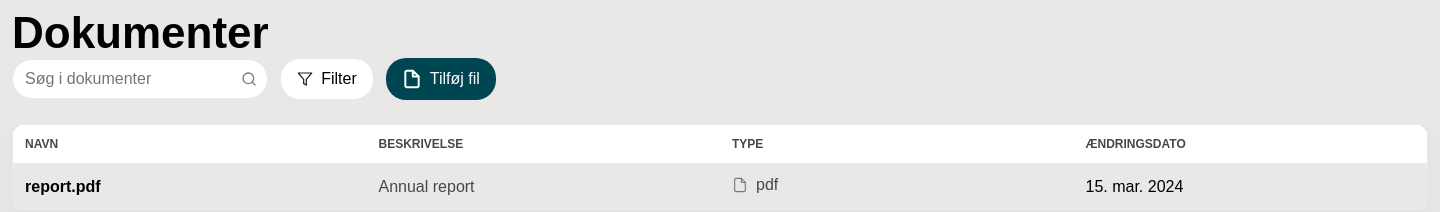
it: DocumentsView › shows empty state message when no documents match the search
Type "xyz-ingenting" into the search field with placeholder "Søg i dokumenter".
click(140, 79); type("xyz-ingenting")  # box x1=12 y1=59 x2=268 y2=99
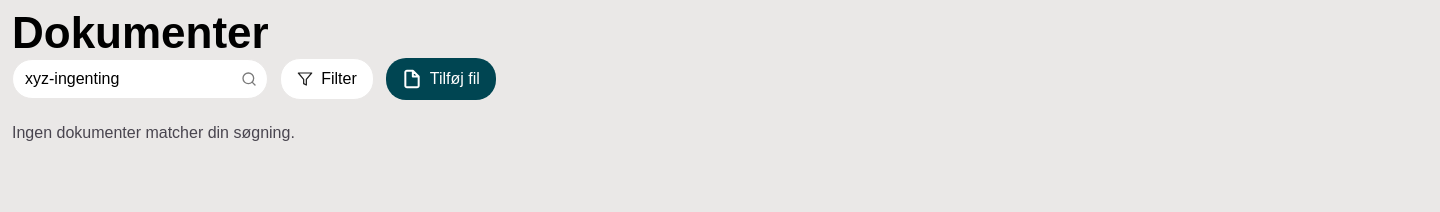
Expected: the text "Ingen dokumenter matcher" is shown, x1=12 y1=124 x2=295 y2=141
